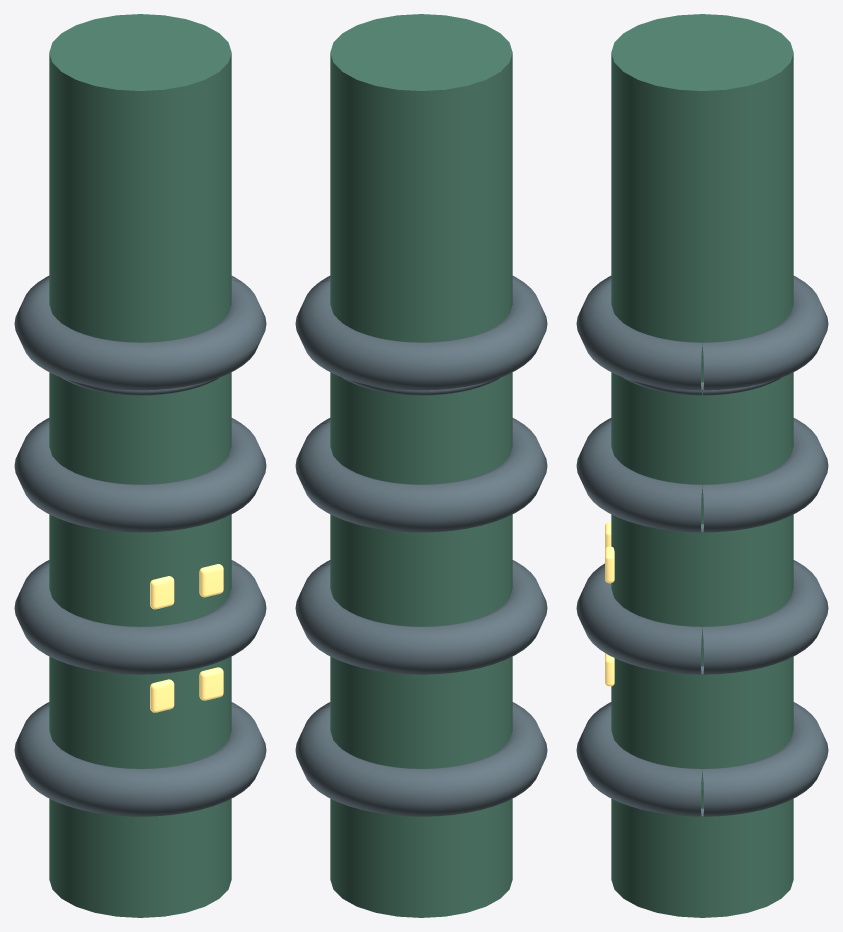
The picture shows the model from 3 angles, left to right: view 1: azimuth 30°, elevation 25°; view 2: azimuth 150°, elevation 25°; view 3: azimuth 270°, elevation 25°; orthographic projection.
Parts seen in each view (by area): view 1: Cylindrical tower, Tower intermediate ledge.001, Tower intermediate ledge.002, Tower intermediate ledge.003, Tower intermediate ledge, Inset service window.001, Inset service window.005, Inset service window.004, Inset service window, Tower seam; view 2: Cylindrical tower, Tower intermediate ledge.001, Tower intermediate ledge.002, Tower intermediate ledge.003, Tower intermediate ledge, Tower seam; view 3: Cylindrical tower, Tower intermediate ledge.002, Tower intermediate ledge.003, Tower intermediate ledge, Tower intermediate ledge.001, Tower seam.
Part boxes in pixels (box(x1,y1,x2,y2)): Cylindrical tower: box(49, 14, 231, 917); Tower intermediate ledge.001: box(14, 560, 266, 674); Tower intermediate ledge.002: box(14, 418, 266, 532); Tower intermediate ledge.003: box(14, 276, 266, 390); Tower intermediate ledge: box(14, 702, 266, 816); Inset service window.001: box(199, 667, 223, 700); Inset service window.005: box(199, 564, 223, 597); Inset service window.004: box(150, 576, 174, 609); Inset service window: box(150, 679, 174, 712); Tower seam: box(61, 377, 219, 395); Cylindrical tower: box(330, 14, 512, 917); Tower intermediate ledge.001: box(295, 560, 547, 674); Tower intermediate ledge.002: box(295, 418, 547, 532); Tower intermediate ledge.003: box(295, 276, 547, 390); Tower intermediate ledge: box(295, 702, 547, 816); Tower seam: box(342, 377, 500, 395); Cylindrical tower: box(611, 14, 793, 917); Tower intermediate ledge.002: box(576, 418, 828, 532); Tower intermediate ledge.003: box(576, 276, 828, 390); Tower intermediate ledge: box(576, 702, 828, 816); Tower intermediate ledge.001: box(576, 560, 828, 674); Tower seam: box(623, 377, 781, 395).
Size of the model in its own units: 0.8838 by 3.2 by 0.884.
